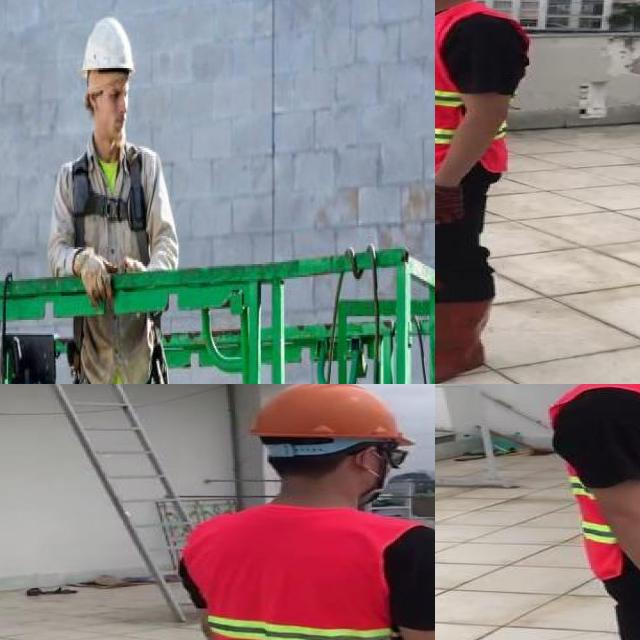Harness: (72, 149, 148, 264)
boots: (435, 300, 495, 384)
hand_glove: (435, 183, 465, 223)
head_helmet: (244, 384, 413, 446)
person: (170, 384, 435, 640), (435, 0, 539, 384), (529, 384, 640, 640)
vest: (183, 507, 410, 640), (545, 384, 640, 581), (435, 9, 515, 177)
